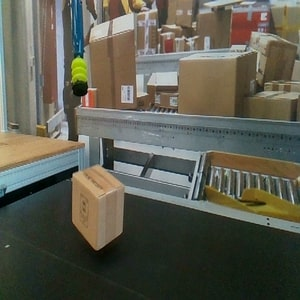box: (70, 163, 126, 252)
